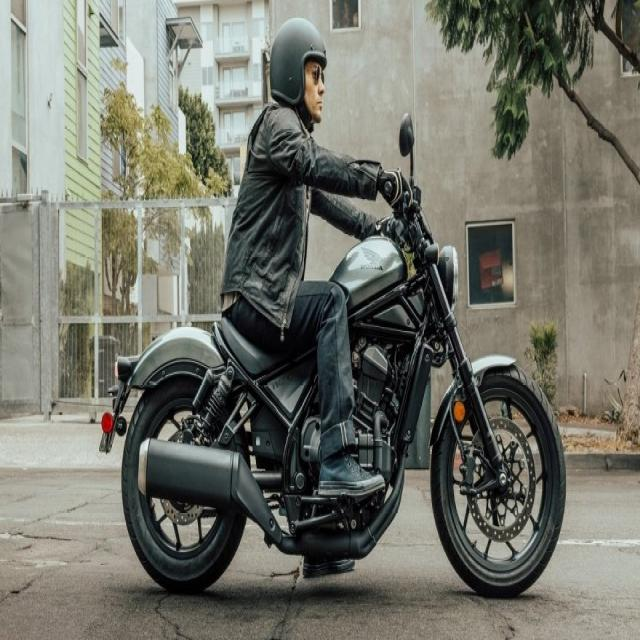Bike: (100, 118, 569, 599)
